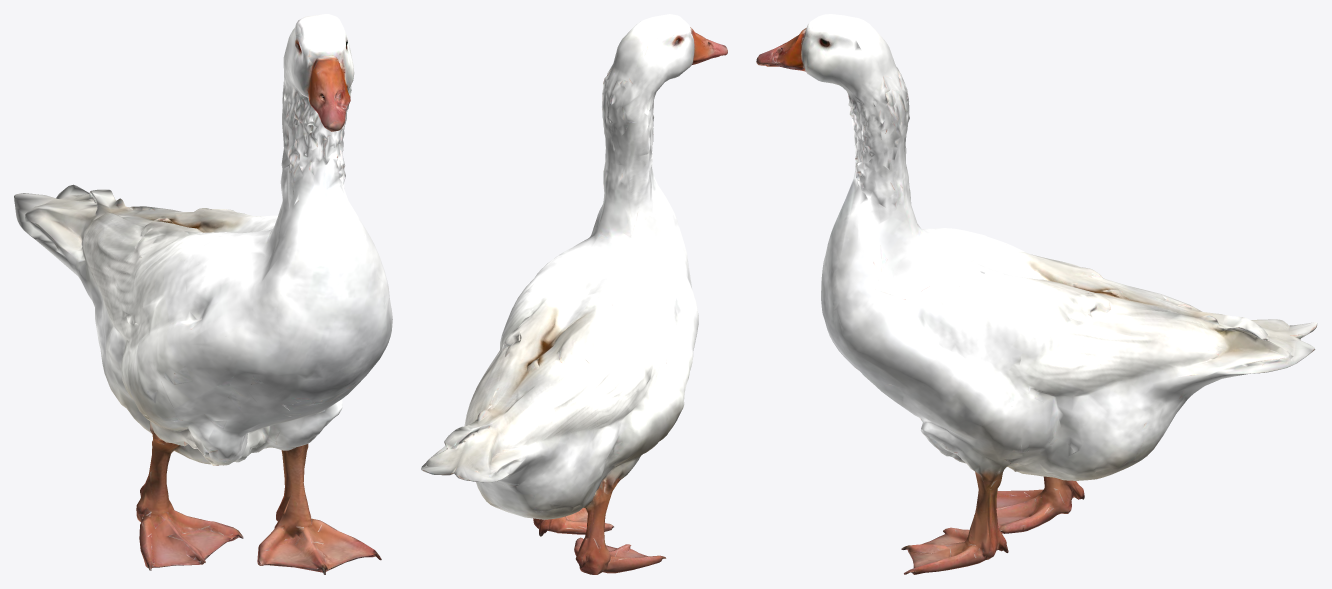
The model's file is kit_goose_standing_a.glb.
The picture shows the model from 3 angles, left to right: view 1: azimuth 30°, elevation 25°; view 2: azimuth 150°, elevation 25°; view 3: azimuth 270°, elevation 25°; orthographic projection. The views are drawn at different scales.
Visible parts, largest first — view 1: Mesh1.0; view 2: Mesh1.0; view 3: Mesh1.0.
Boxes of the visible parts, box(x1,y1,x2,y2) form: Mesh1.0: box(14, 14, 392, 574); Mesh1.0: box(421, 14, 727, 574); Mesh1.0: box(756, 14, 1317, 574).
Size of the model in its own units: 0.3297 by 0.85 by 0.8365.
1 material, 1 textured.
